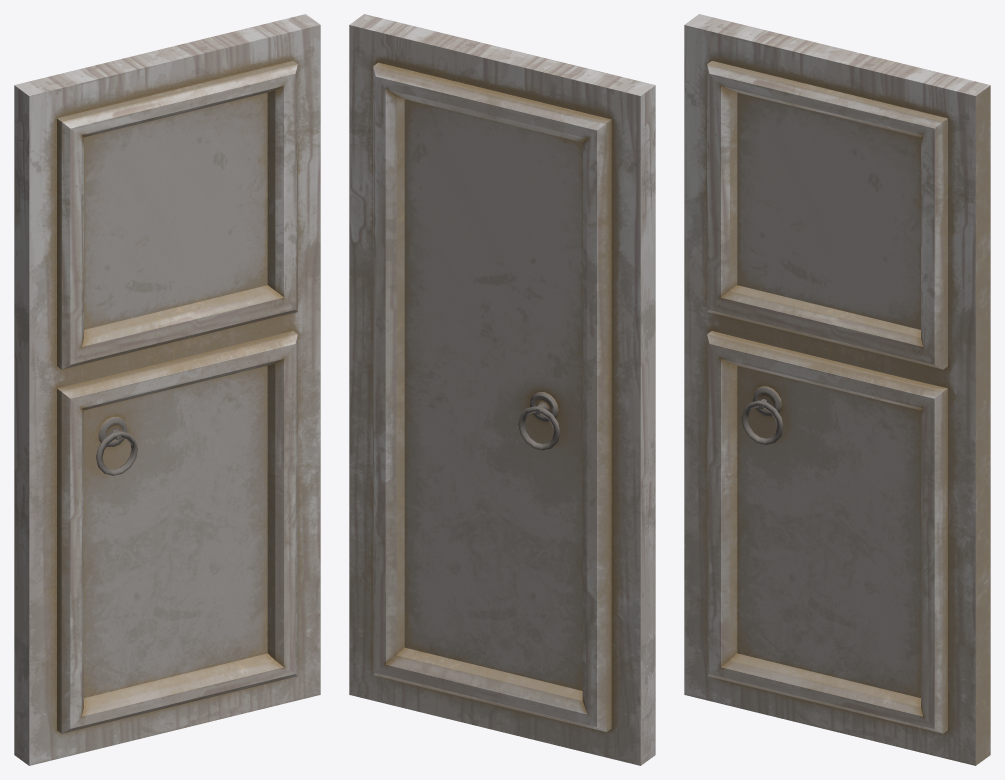
Rendered from Door Right side.fbx.
3 views of the same model, side by side, from view 1: azimuth 30°, elevation 25°; view 2: azimuth 150°, elevation 25°; view 3: azimuth 330°, elevation 25° (orthographic).
Parts seen in each view (by area): view 1: door1; view 2: door1; view 3: door1.
Boxes of the visible parts, x1,y1,x2,y2 form: door1: (14,14,320,765); door1: (349,14,655,765); door1: (684,14,990,765).
Bounding box in the file's own units: 80.15 × 176 × 15.02.
